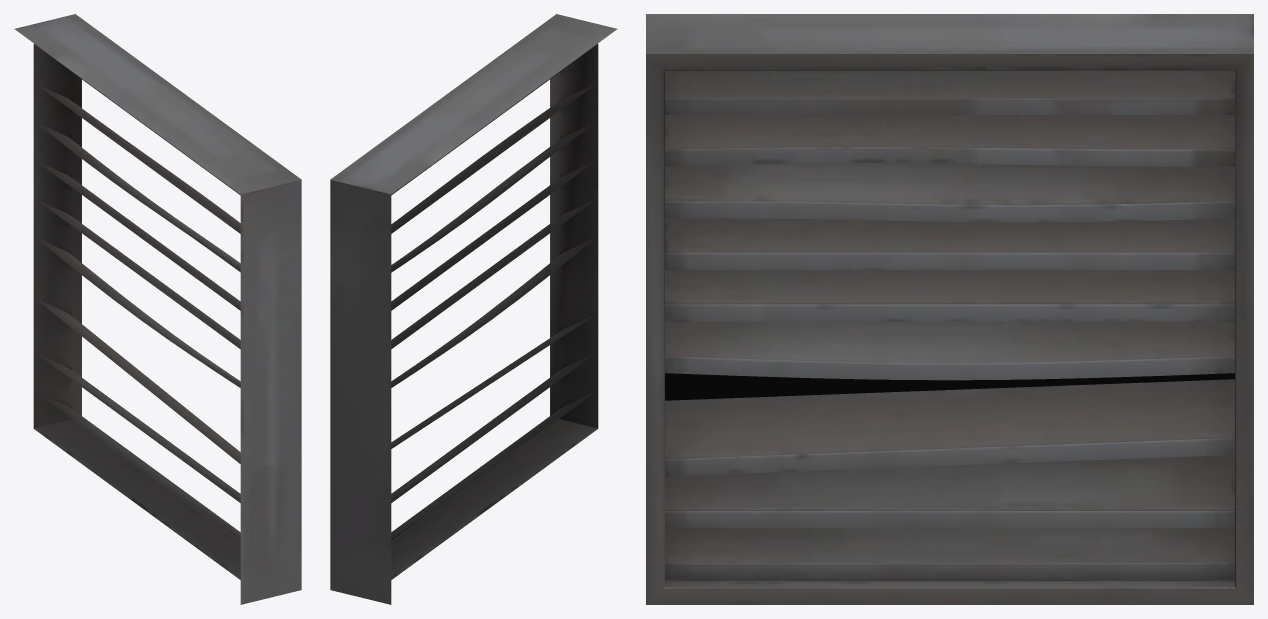
3 renders of one model, left to right at view 1: azimuth 30°, elevation 25°; view 2: azimuth 150°, elevation 25°; view 3: azimuth 270°, elevation 25°, orthographic. The views are drawn at different scales.
Parts seen in each view (by area): view 1: body0_model0_lod0_mesh0; view 2: body0_model0_lod0_mesh0; view 3: body0_model0_lod0_mesh0.
Boxes of the visible parts, x1,y1,x2,y2 form: body0_model0_lod0_mesh0: (14,14,301,604); body0_model0_lod0_mesh0: (330,14,617,604); body0_model0_lod0_mesh0: (646,14,1253,604).
Bounding box in the file's own units: 10 × 64 × 64.
Materials: 1 (1 with a texture image).
